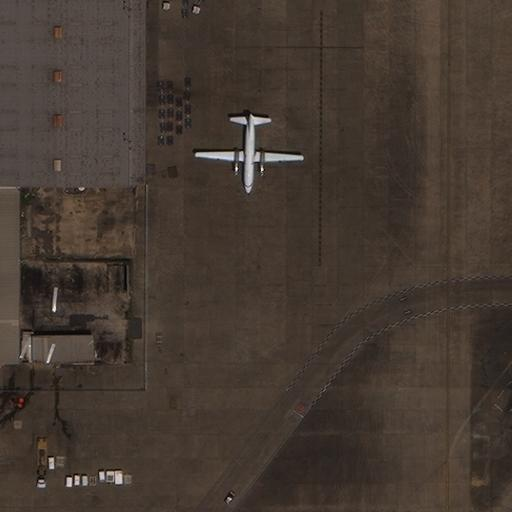Medium Civil Transport: (195, 111, 306, 191)
